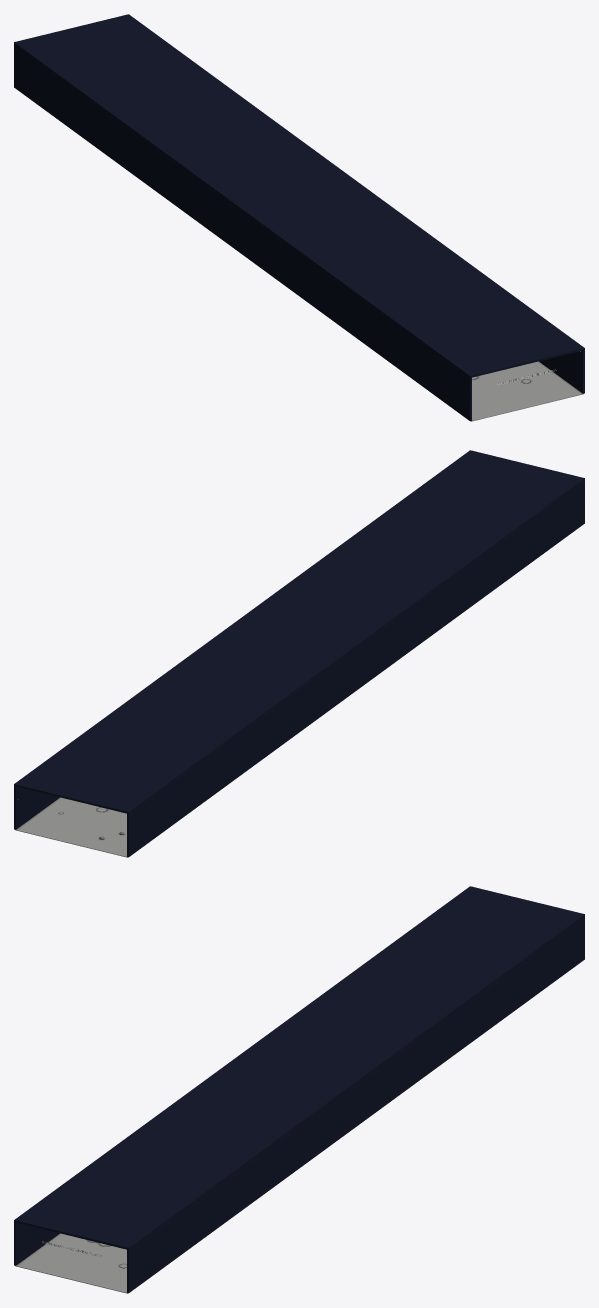
Rendered from hangar_luna.glb.
3 renders of one model, top to bottom at view 1: azimuth 30°, elevation 25°; view 2: azimuth 150°, elevation 25°; view 3: azimuth 330°, elevation 25°, orthographic.
Parts seen in each view (by area): view 1: hangar_luna; view 2: hangar_luna; view 3: hangar_luna.
Boxes of the visible parts, left/top/right/bottom form: hangar_luna: left=14, top=14, right=584, bottom=421; hangar_luna: left=14, top=450, right=584, bottom=857; hangar_luna: left=14, top=886, right=584, bottom=1293.
Bounding box in the file's own units: 61 × 23.55 × 420.
Materials: 1 (1 with a texture image).
